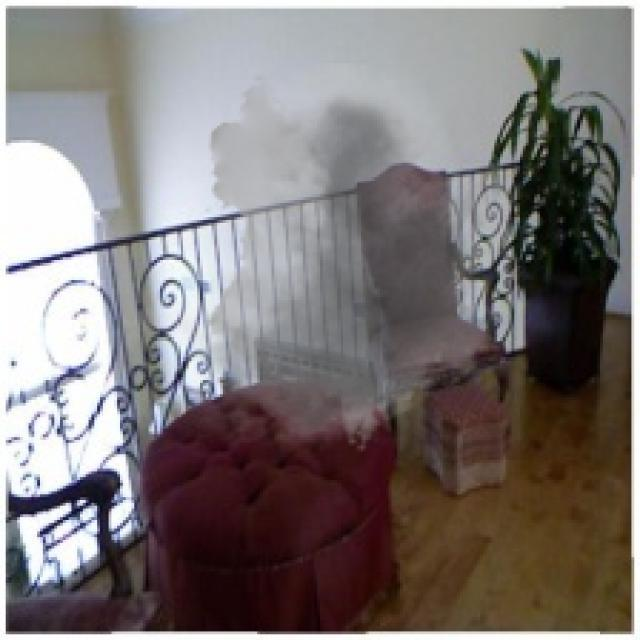Smoke: (126, 60, 534, 466)
